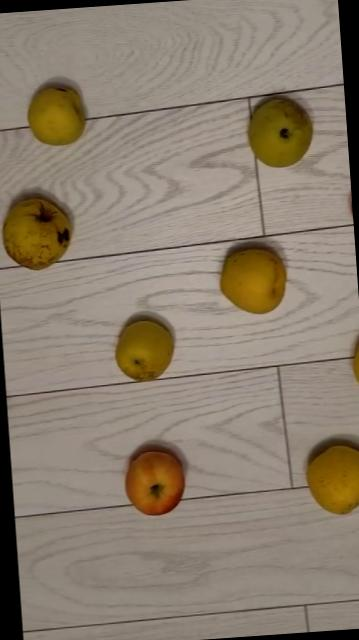apple_green: (0, 196, 73, 272), (244, 95, 315, 169), (216, 245, 288, 316), (302, 442, 359, 517), (111, 317, 175, 383), (24, 84, 86, 148)
apple_red: (121, 447, 185, 516)
